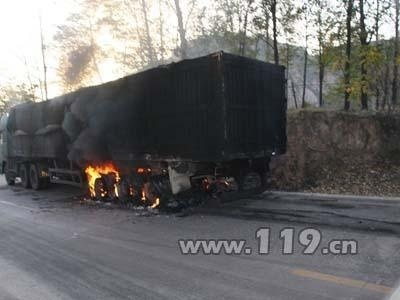fire: (83, 160, 160, 205)
